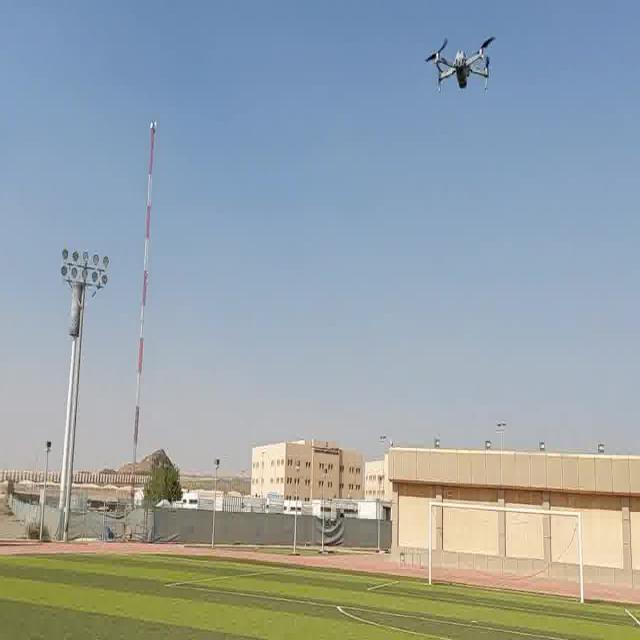drone: (425, 31, 501, 101)
